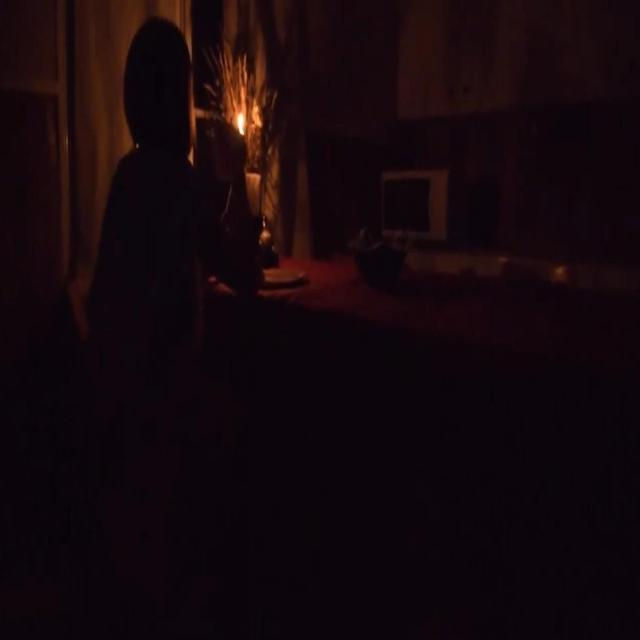smoke: (237, 109, 246, 133)
